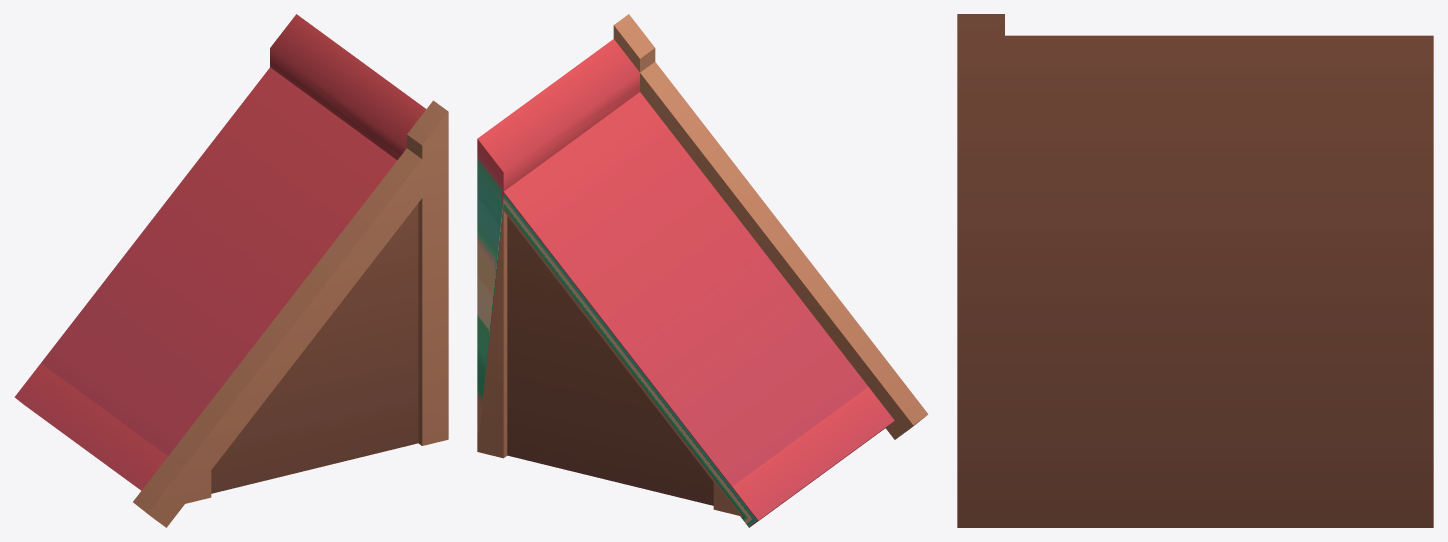
The model's file is roof-high-right.glb.
3 views of the same model, side by side, from view 1: azimuth 30°, elevation 25°; view 2: azimuth 150°, elevation 25°; view 3: azimuth 270°, elevation 25° (orthographic). The views are drawn at different scales.
Visible parts, largest first — view 1: roof-high-right; view 2: roof-high-right; view 3: roof-high-right.
Part boxes in pixels (left/top/right/bottom): roof-high-right: left=14, top=14, right=448, bottom=527; roof-high-right: left=477, top=14, right=928, bottom=527; roof-high-right: left=957, top=14, right=1433, bottom=527.
Bounding box in the file's own units: 1.14 × 1.26 × 1.
1 material, 1 textured.
